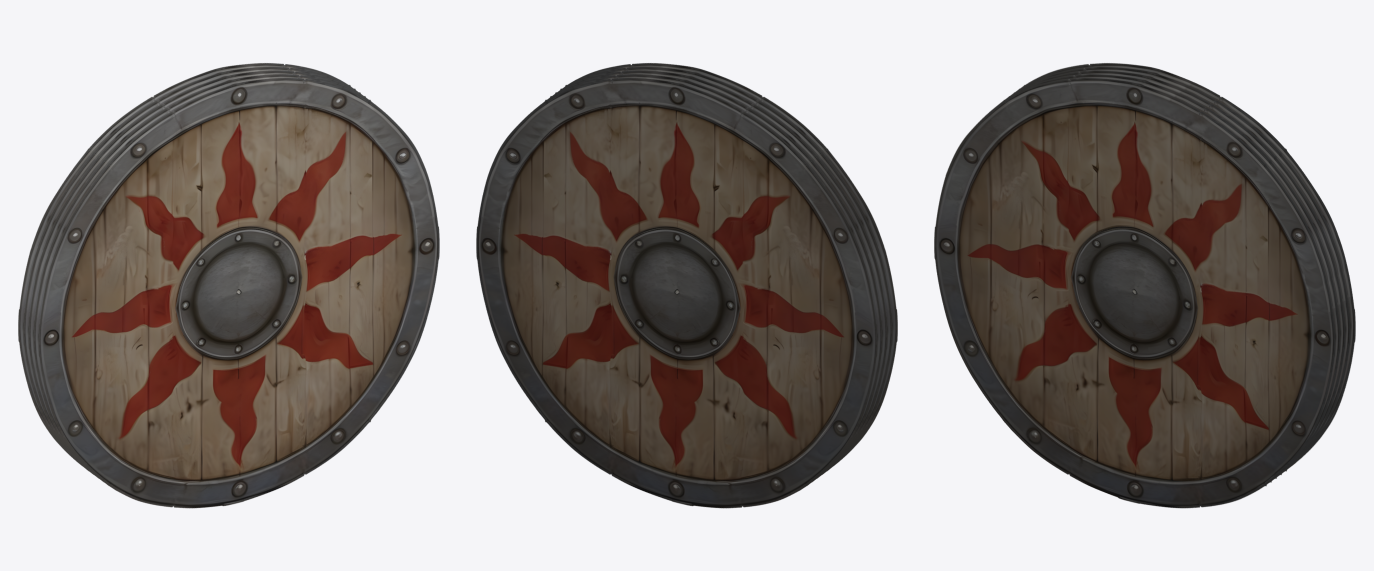
File: shield_sun.glb
3 views of the same model, side by side, from view 1: azimuth 30°, elevation 25°; view 2: azimuth 150°, elevation 25°; view 3: azimuth 330°, elevation 25° (orthographic).
Visible parts, largest first — view 1: shield_sun; view 2: shield_sun; view 3: shield_sun.
Part boxes in pixels (x1=…): shield_sun: x1=18, y1=63, x2=439, y2=508; shield_sun: x1=476, y1=63, x2=897, y2=508; shield_sun: x1=934, y1=63, x2=1355, y2=508.
Size of the model in its own units: 0.816 by 0.816 by 0.07.
Materials: 1 (1 with a texture image).
